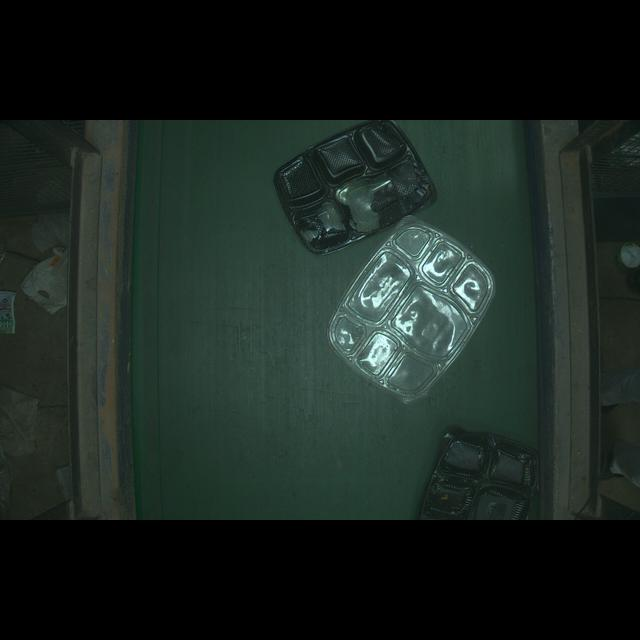mix rigid: (299, 223, 518, 394), (263, 119, 432, 238), (416, 424, 554, 519)
